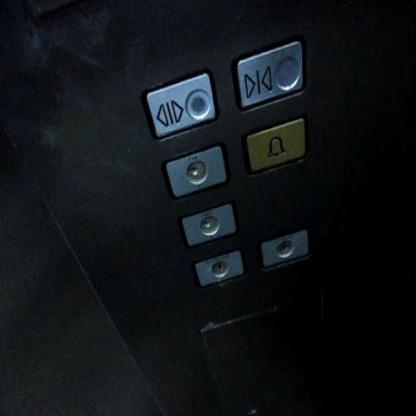alarm: (240, 112, 309, 178)
bt_keyhole: (160, 140, 232, 198), (177, 198, 240, 252), (258, 224, 313, 271), (190, 248, 247, 288)
close: (230, 32, 306, 111)
open: (139, 68, 220, 140)
